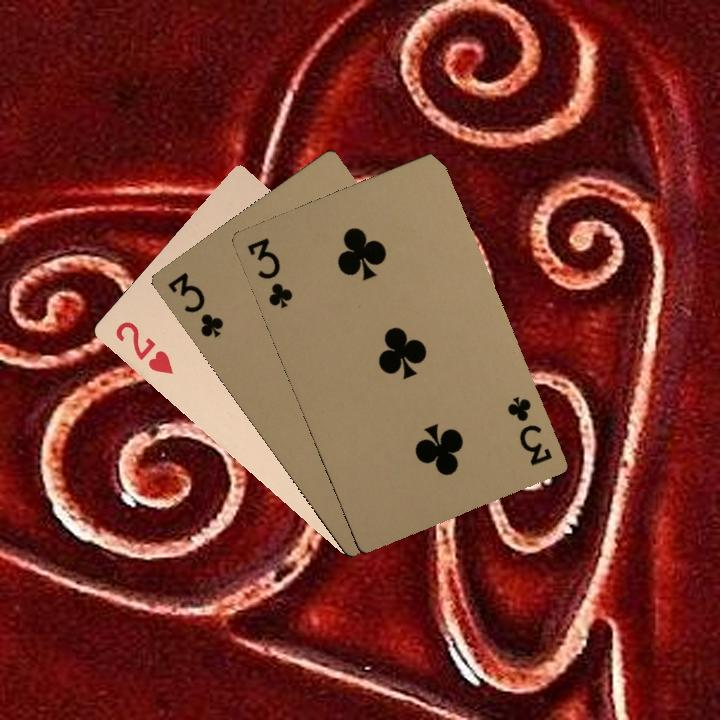2h: (111, 317, 176, 377)
3c: (164, 267, 227, 340), (243, 233, 296, 311), (503, 392, 555, 469)
